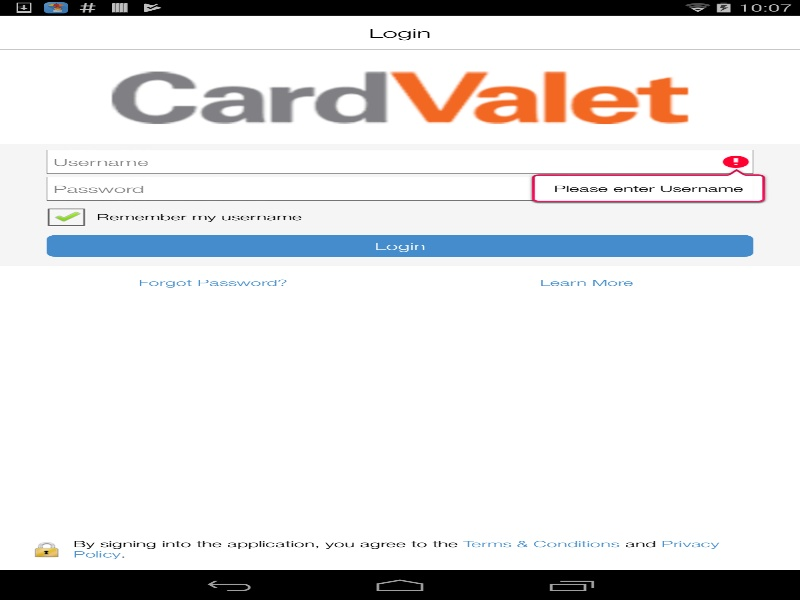Button: (46, 235, 753, 256)
Input: (46, 176, 753, 200), (46, 150, 753, 173)
